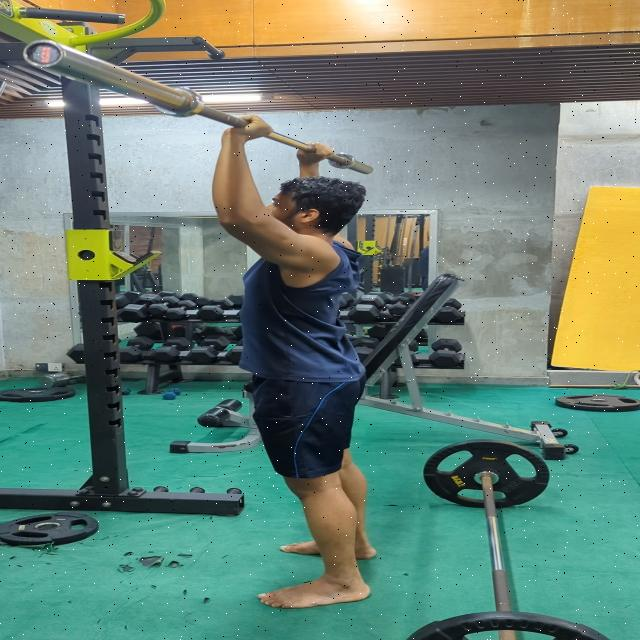Normal_OverheadPress: (198, 104, 418, 618)
